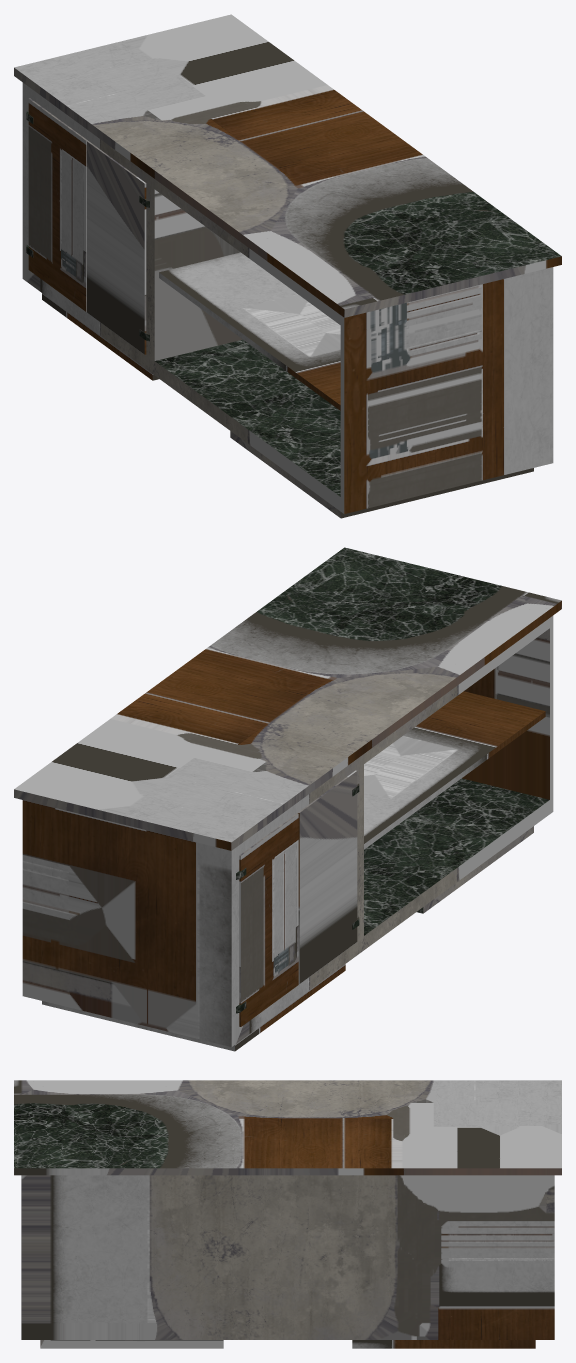
Rendered from escritorio.obj.
The picture shows the model from 3 angles, top to bottom: view 1: azimuth 30°, elevation 25°; view 2: azimuth 150°, elevation 25°; view 3: azimuth 270°, elevation 25°; orthographic projection. The views are drawn at different scales.
Visible parts, largest first — view 1: Object_4; view 2: Object_4; view 3: Object_4.
Boxes of the visible parts, <box> form: Object_4: <box>14,14,561,518</box>; Object_4: <box>14,547,561,1051</box>; Object_4: <box>14,1080,561,1348</box>.
Size of the model in its own units: 2.27 by 2.23 by 5.97.
